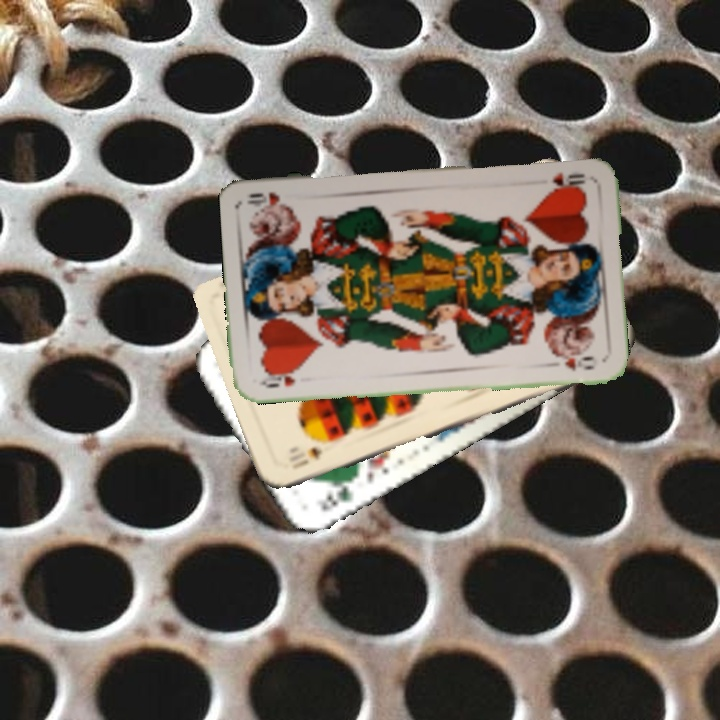GK: (313, 474, 357, 514)
HO: (256, 366, 304, 391), (548, 168, 588, 192)
S10: (288, 444, 325, 472)
